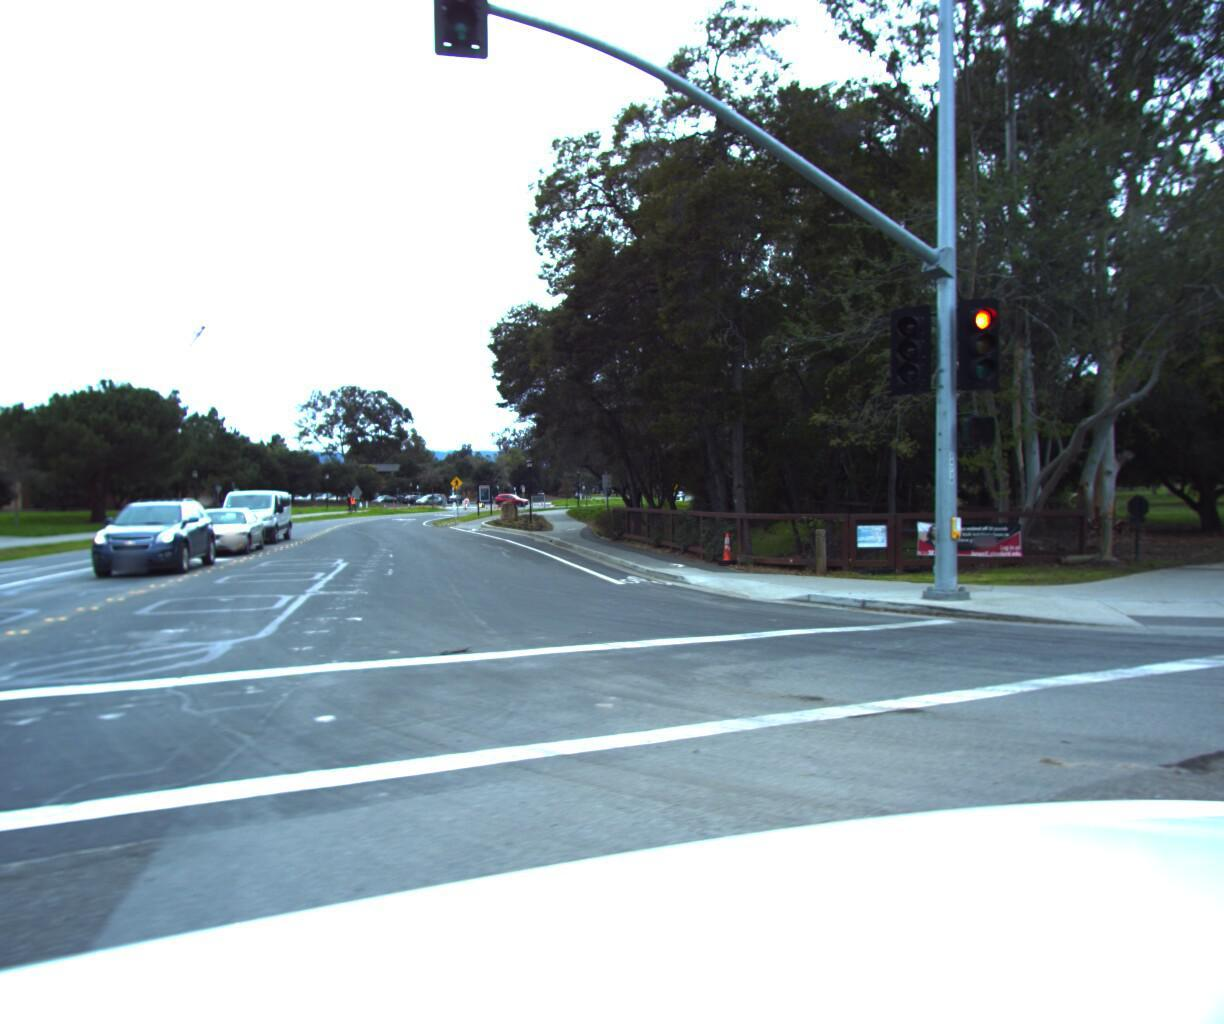car: (83, 499, 222, 580), (174, 505, 269, 559), (211, 486, 298, 545)
